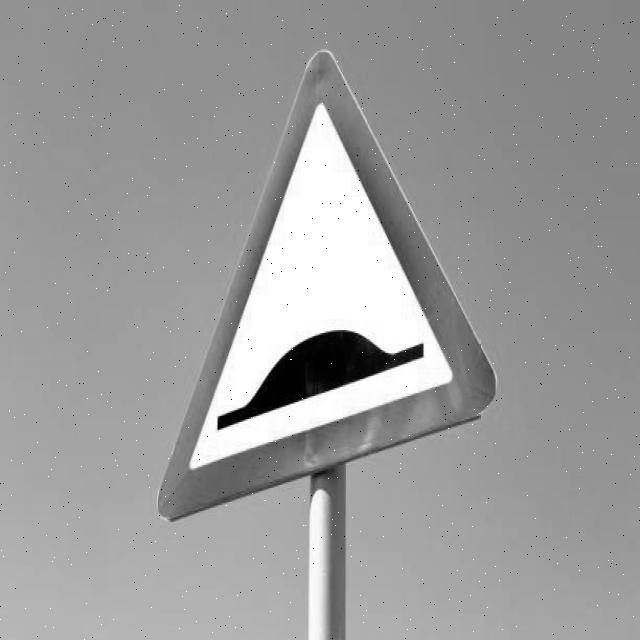Bump: (158, 51, 496, 526)
